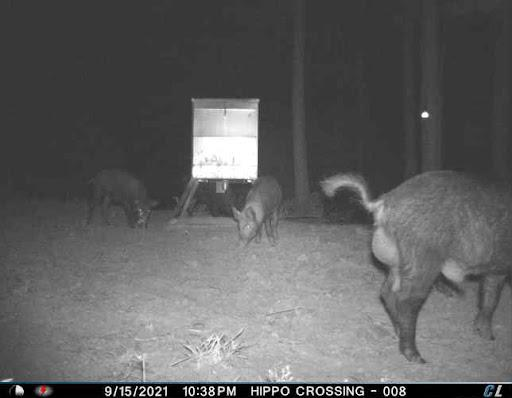Hog: (339, 167, 512, 365), (82, 160, 161, 234), (232, 170, 295, 255)
